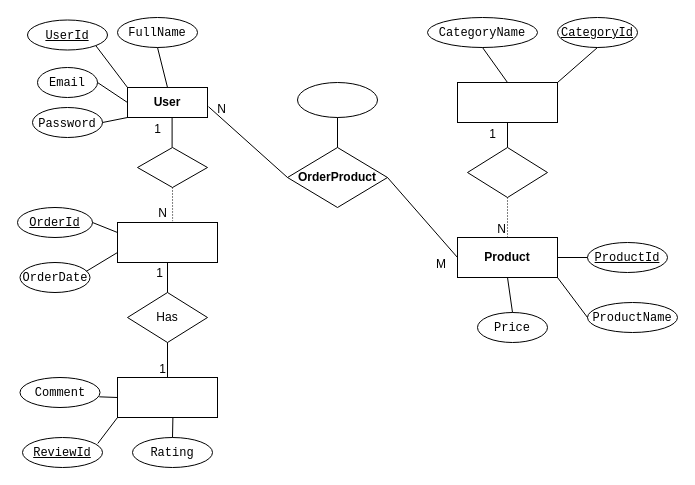
This 695x485 diagram has some shape labels left out. The shapes that lost their labels are listed below. From the top down, each one's box as (x1, y1, x2, y2) in pixels, then its label:
(296, 82, 378, 118): Quantity
(456, 82, 558, 122): Category
(136, 146, 208, 188): Places
(466, 146, 548, 198): Belongs To
(116, 222, 218, 262): Order
(116, 376, 218, 418): Review
